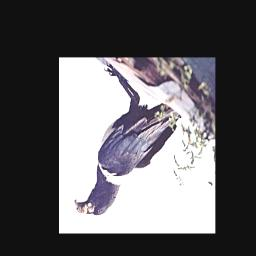Crow: (74, 63, 186, 217)
